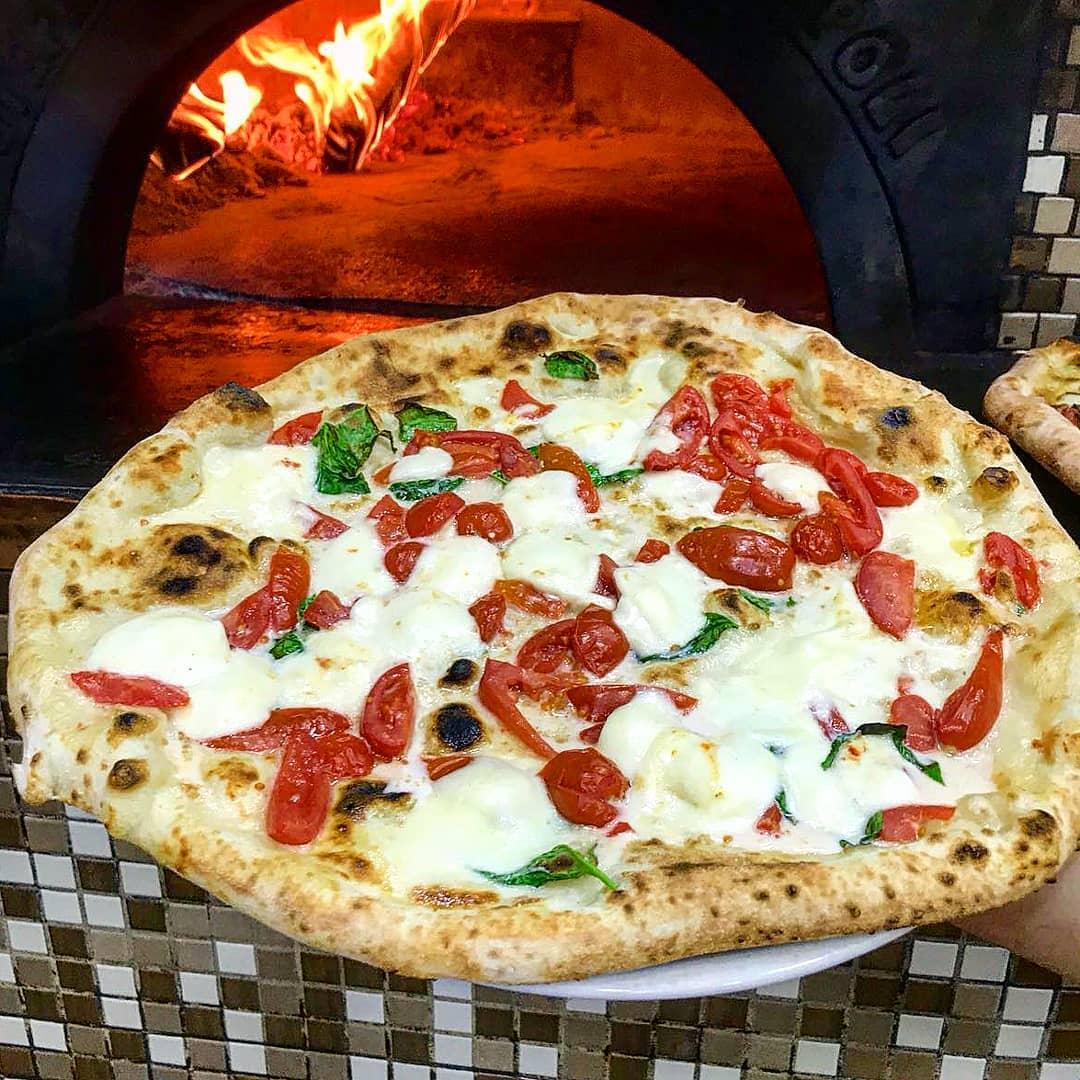Basil: (466, 836, 627, 901), (819, 715, 953, 791), (307, 397, 394, 502), (634, 615, 747, 670), (260, 593, 329, 659), (386, 392, 470, 444), (384, 467, 475, 507), (532, 341, 609, 384), (574, 452, 650, 489), (839, 803, 887, 851), (766, 781, 799, 825), (525, 438, 545, 463), (488, 467, 504, 482)
Pizza: (0, 282, 1080, 986)
Tomatoes: (262, 720, 378, 847), (194, 693, 364, 756), (933, 625, 1007, 763), (536, 739, 638, 837), (674, 522, 799, 597), (812, 443, 886, 562), (478, 654, 558, 762), (353, 657, 427, 766), (57, 659, 199, 714), (404, 427, 543, 483), (557, 677, 708, 724), (852, 544, 921, 639), (970, 529, 1048, 612), (644, 384, 715, 474), (262, 525, 320, 629), (209, 572, 278, 657), (568, 597, 630, 682), (532, 440, 602, 513), (450, 489, 522, 556), (703, 405, 766, 474), (490, 574, 573, 622), (758, 411, 833, 464), (515, 612, 578, 675), (882, 691, 940, 757), (879, 801, 963, 846), (402, 488, 469, 542), (704, 366, 778, 410), (265, 406, 331, 452), (499, 376, 560, 423), (748, 476, 813, 519), (294, 581, 349, 631), (377, 536, 425, 593), (362, 489, 412, 543), (786, 517, 840, 565), (862, 467, 920, 511), (296, 496, 349, 544), (466, 587, 511, 643), (586, 544, 625, 607), (710, 472, 757, 516), (765, 373, 802, 421), (630, 532, 673, 568), (686, 450, 733, 481), (751, 802, 788, 832), (578, 722, 607, 746)
